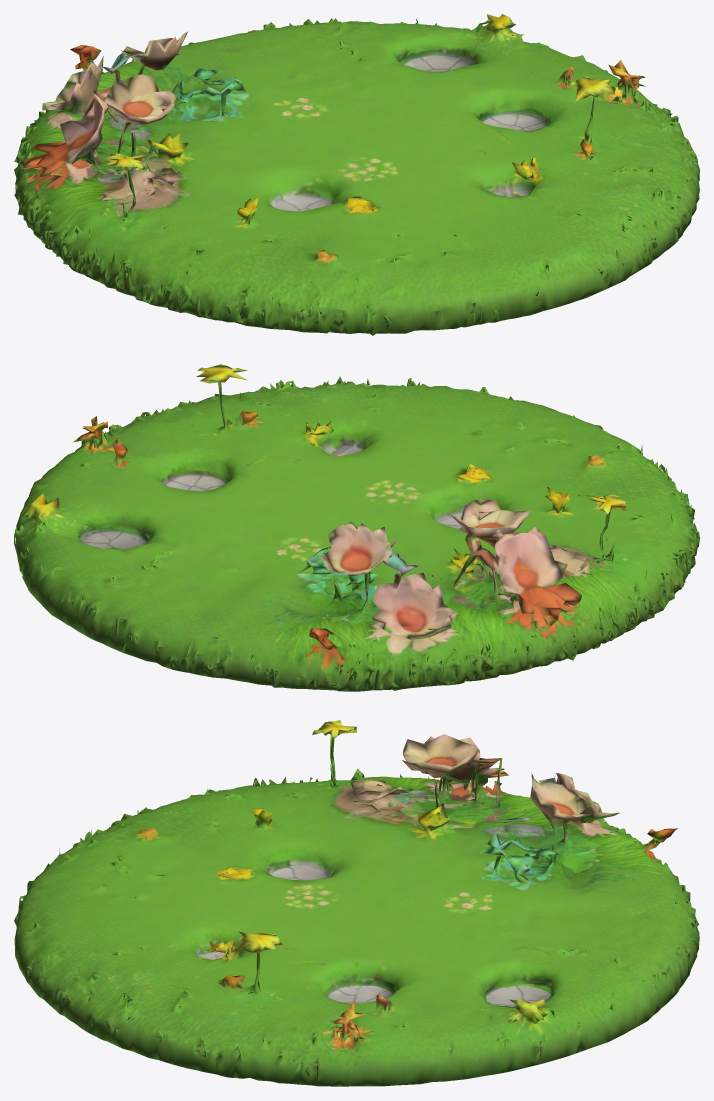
File: tiles.glb
3 renders of one model, top to bottom at view 1: azimuth 30°, elevation 25°; view 2: azimuth 150°, elevation 25°; view 3: azimuth 270°, elevation 25°, orthographic.
Parts seen in each view (by area): view 1: Mesh1; view 2: Mesh1; view 3: Mesh1.
Boxes of the visible parts, bbox=[...] form: Mesh1: bbox=[14, 14, 699, 335]; Mesh1: bbox=[14, 364, 699, 691]; Mesh1: bbox=[14, 720, 699, 1086].
Size of the model in its own units: 1.93 by 0.36 by 1.94.
Materials: 1 (1 with a texture image).
